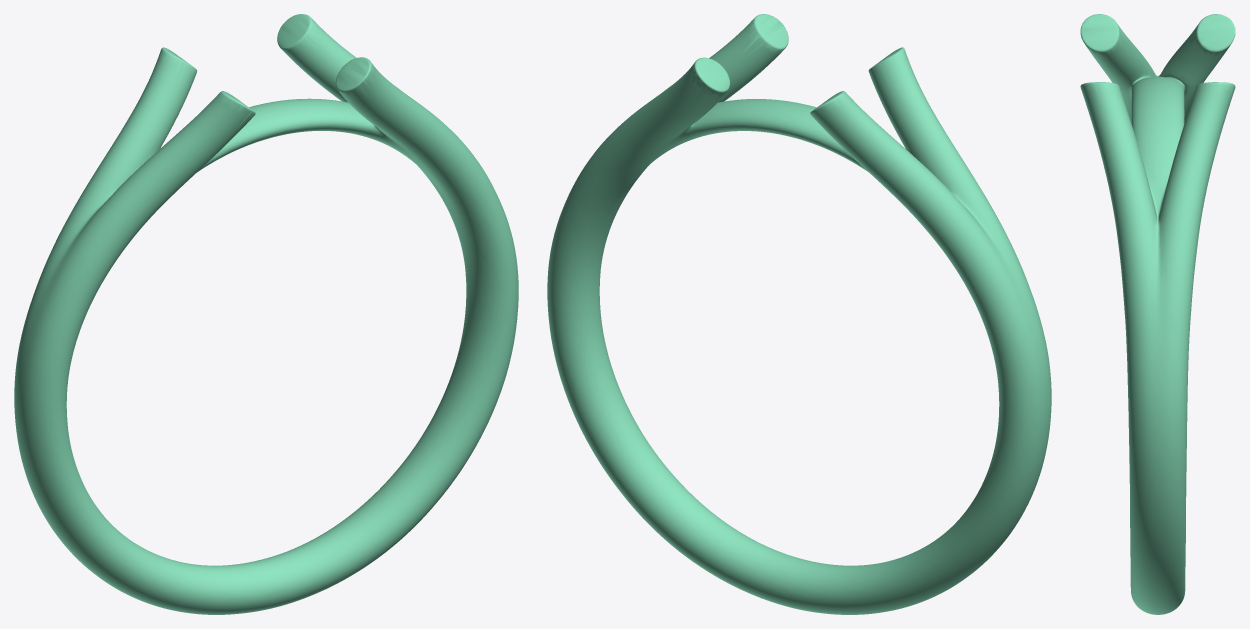
3 views of the same model, side by side, from view 1: azimuth 30°, elevation 25°; view 2: azimuth 150°, elevation 25°; view 3: azimuth 270°, elevation 25° (orthographic).
Parts seen in each view (by area): view 1: Metal02; view 2: Metal02; view 3: Metal02.
Part boxes in pixels (<box>): Metal02: <box>14,14,518,614</box>; Metal02: <box>547,14,1051,614</box>; Metal02: <box>1080,14,1235,614</box>.
Size of the model in its own units: 20.89 by 22.26 by 5.78.
